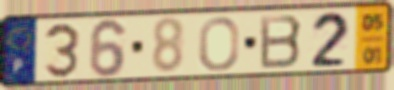2: (306, 8, 354, 72)
3: (41, 20, 82, 80)
6: (87, 16, 129, 80)
8: (150, 15, 187, 76)
B: (258, 12, 305, 71)
O: (197, 15, 242, 73)
